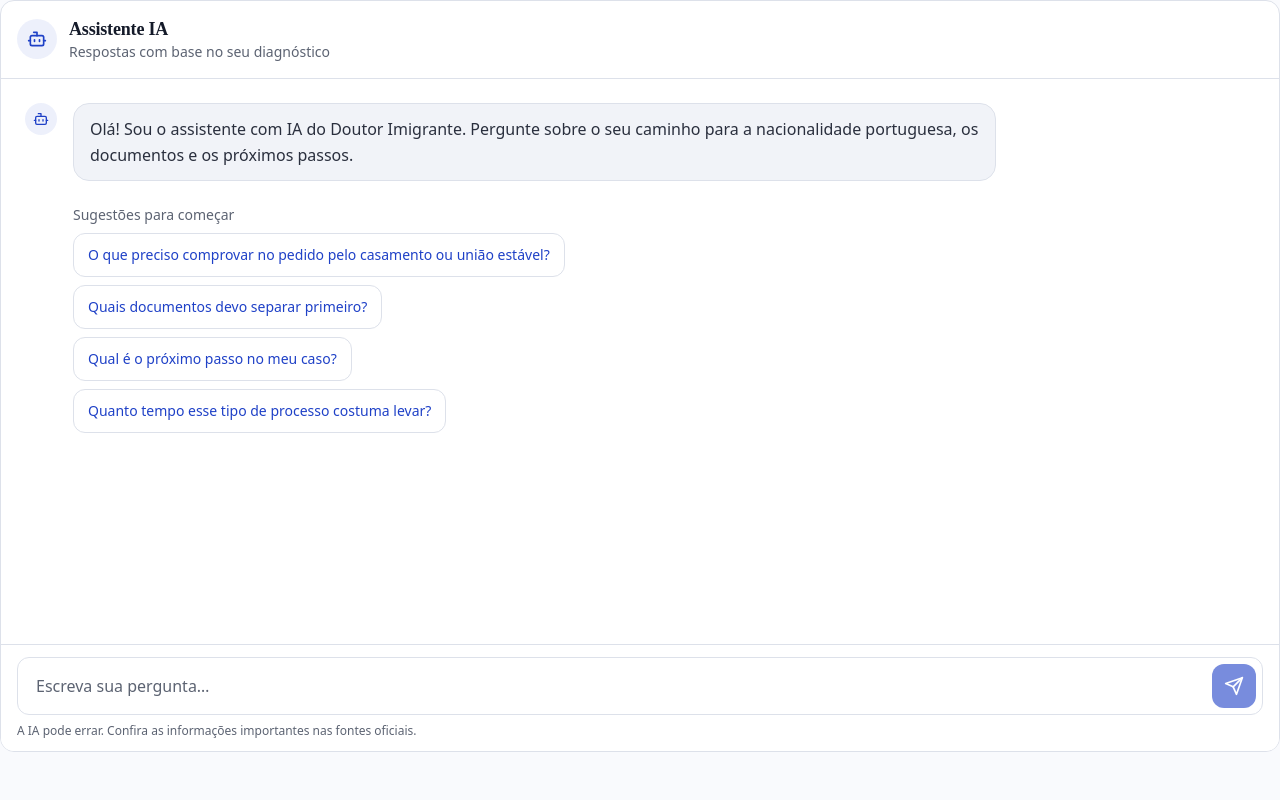
Test case: ChatPage — DI-051 › 500 no envio: o texto volta para o campo e aparece uma mensagem clara
Expected: the element with test id "chat-suggestions" is shown, [73,205,565,433]
Type "Preciso traduzir a certidão?" into the text box with test id "chat-input" at (614, 686), box [24,664,1204,708]
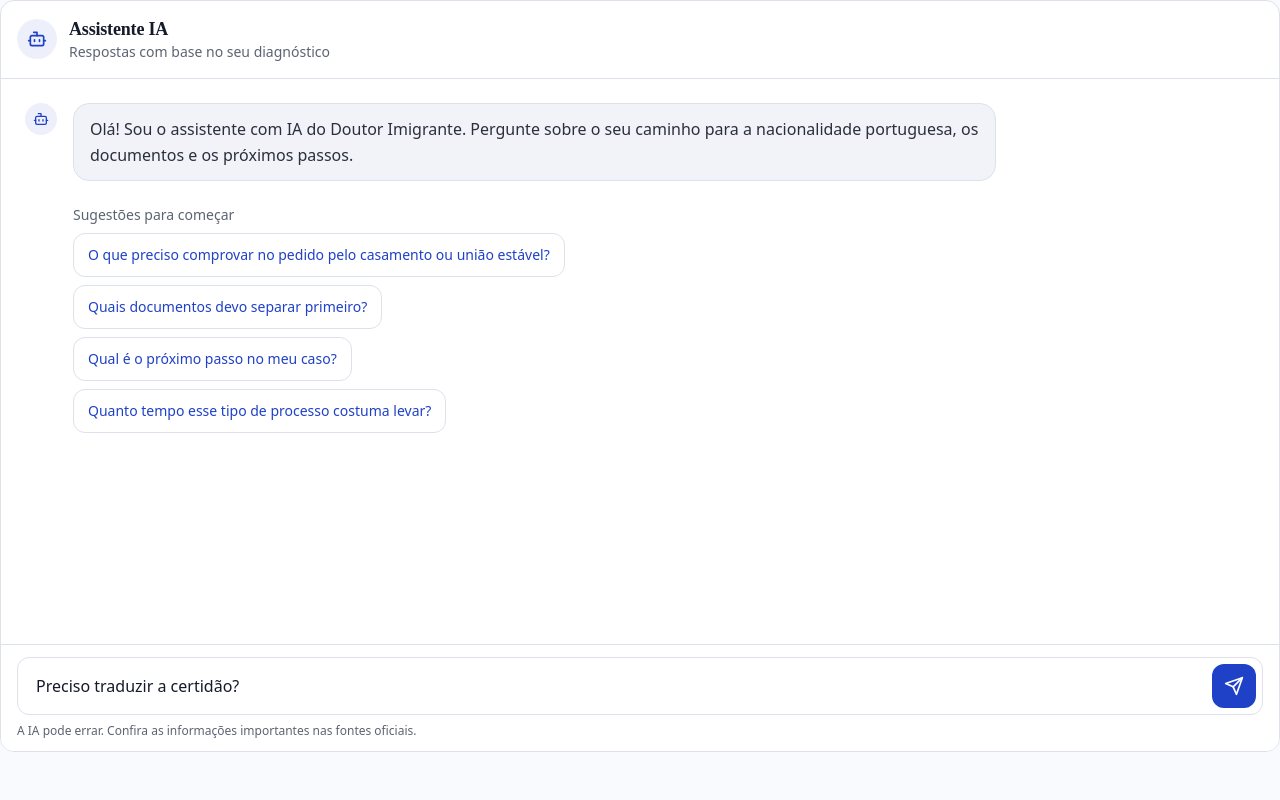
Click the button with test id "chat-send" at (1234, 686), box [1212,664,1256,708]
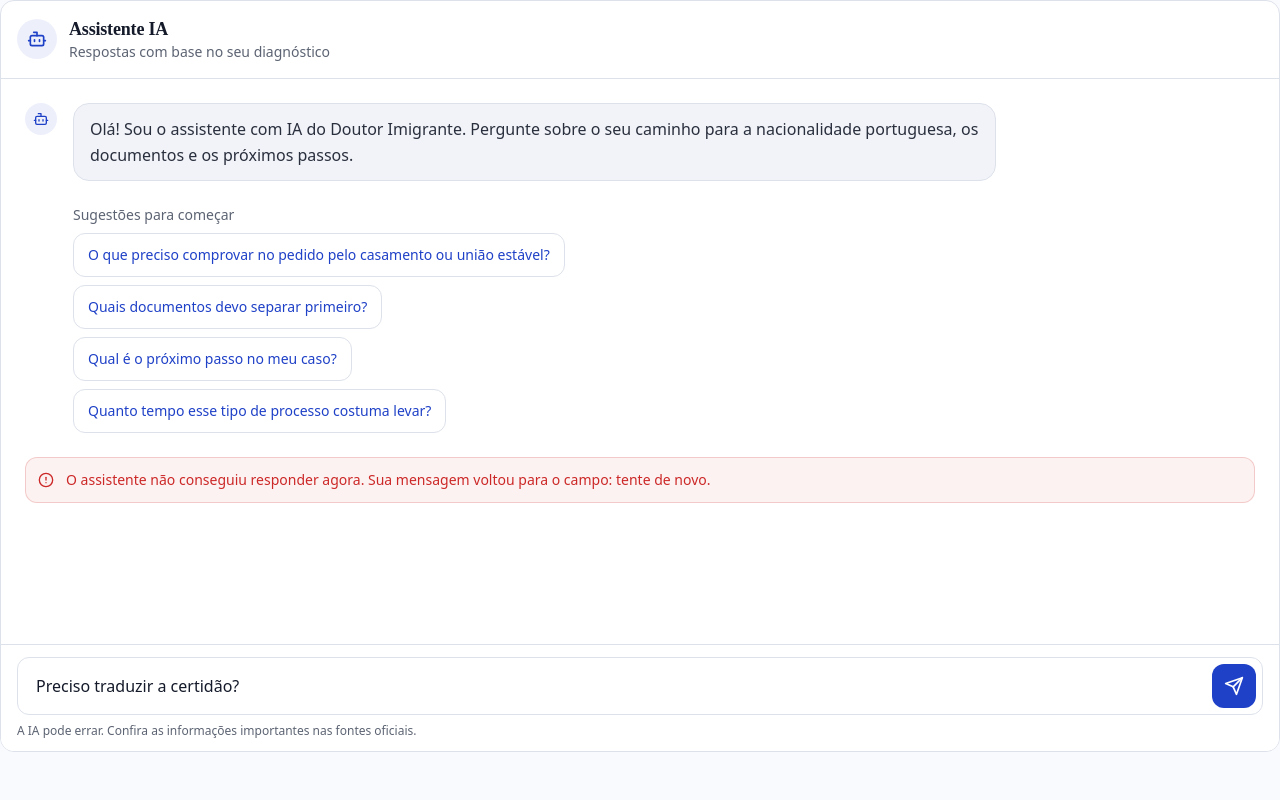
Result: the message shows "Sua mensagem voltou para o campo" at [66,470,710,489]
